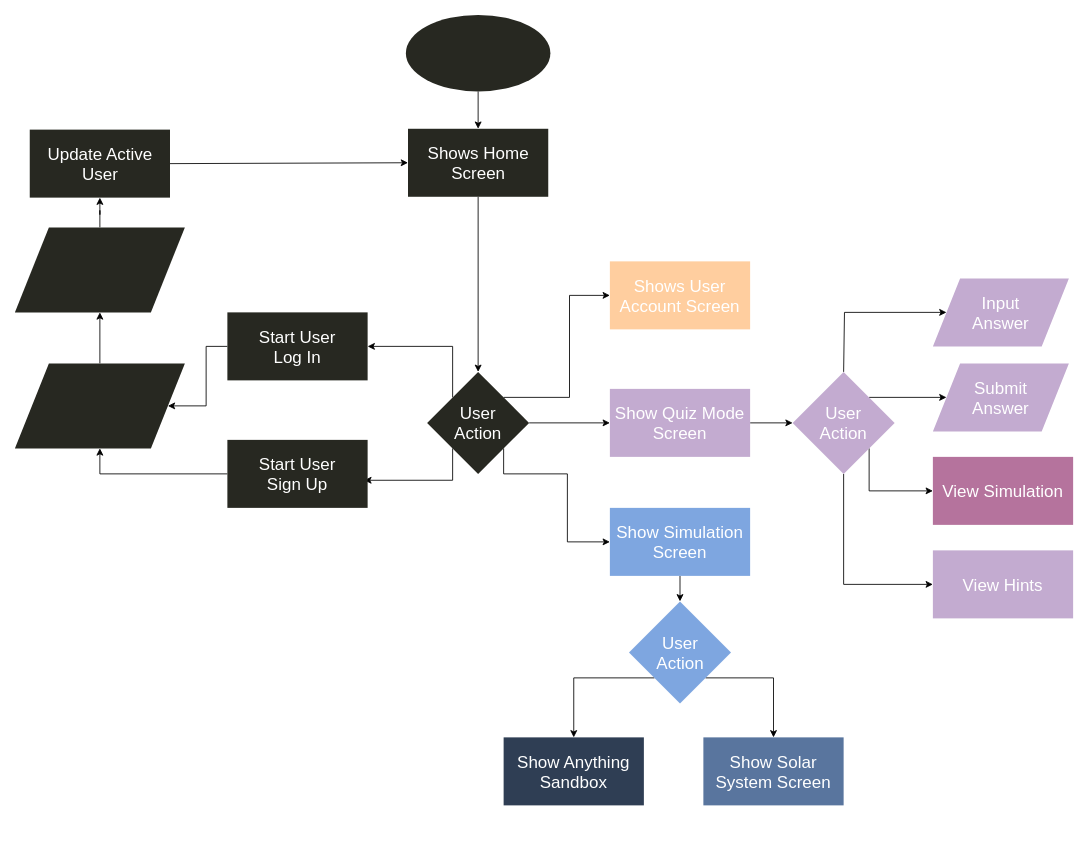
The diagram is 1087 pixels wide and 863 high, and some of its shapes have lost their labels. Grey dashed boxes stand in for pictures. The shapes that lost their labels are listed below. From the top down, each one's centre as x and y in pixels, then its label:
At (x=477, y=52): "Program Opens".
At (x=99, y=269): "push / pull info to / from database".
At (x=99, y=405): "User input required information".
